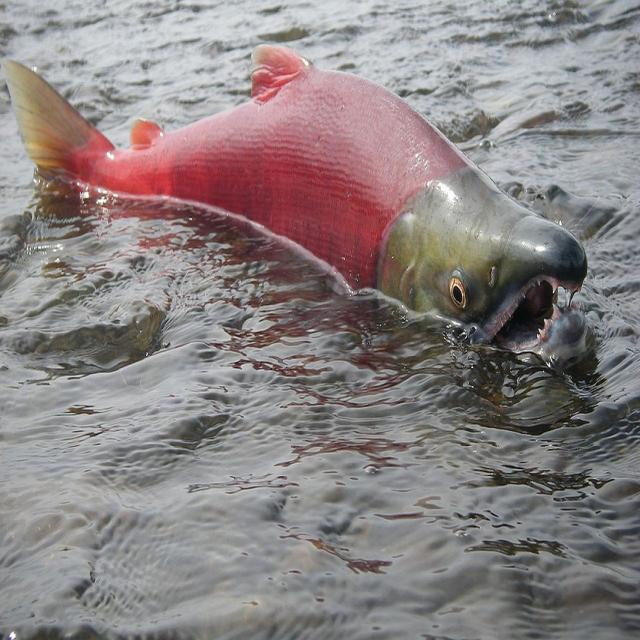salmon: (2, 34, 588, 421)
